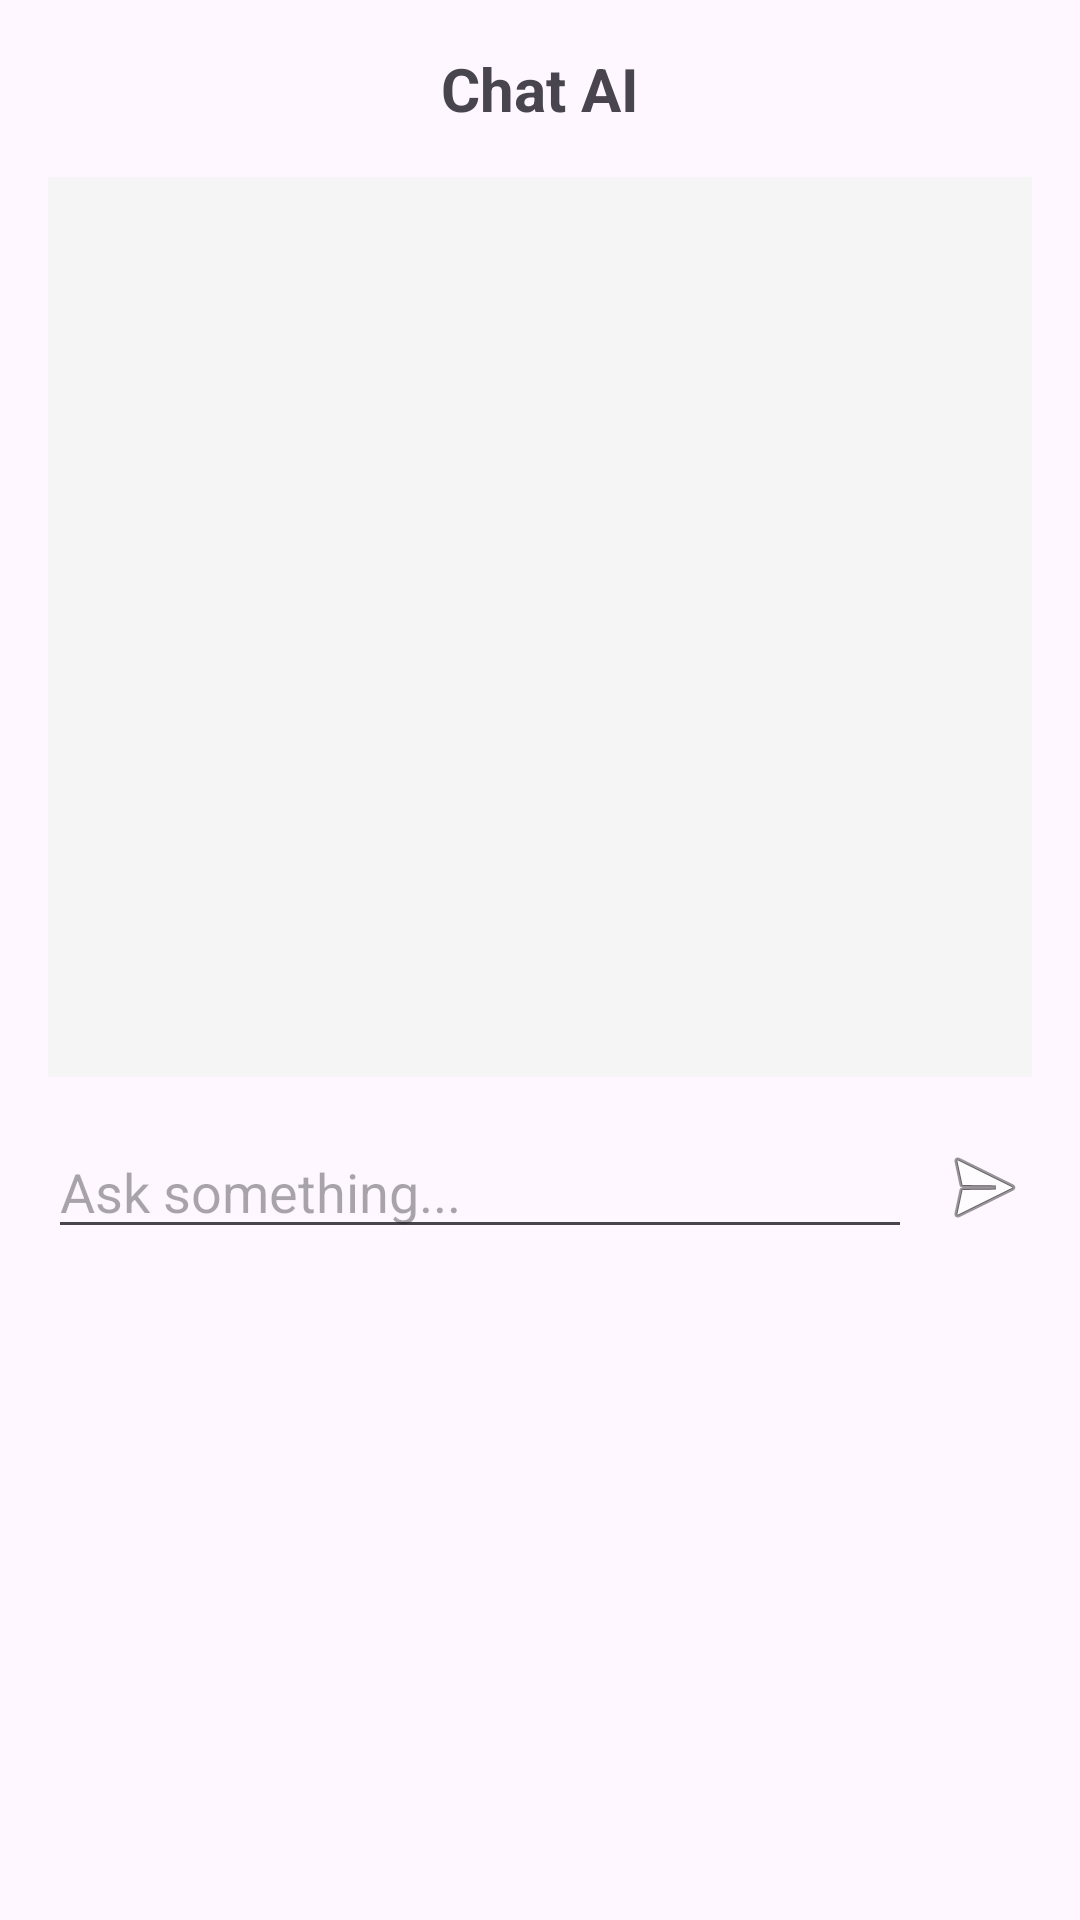

Point at icon controls on the screen. Image size 1080px×1920px, points as [x,y].
Send: [985,1187]
